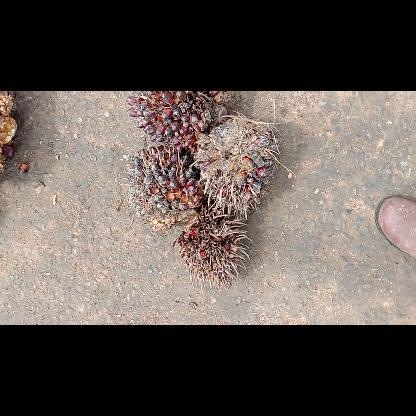TBS abnormal: (192, 115, 276, 217), (122, 142, 204, 230), (126, 91, 230, 151), (177, 214, 251, 288)
